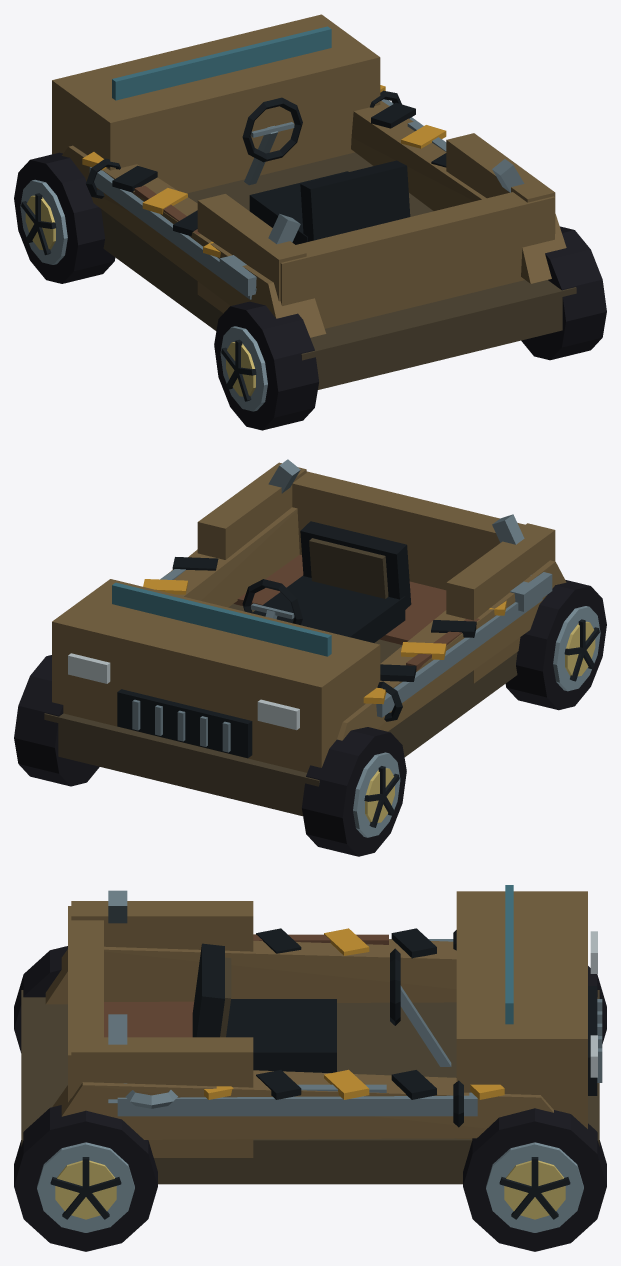
Rendered from kart.glb.
3 renders of one model, top to bottom at view 1: azimuth 30°, elevation 25°; view 2: azimuth 150°, elevation 25°; view 3: azimuth 270°, elevation 25°, orthographic. The views are drawn at different scales.
Visible parts, largest first — view 1: identity-truck-truck-utility-body, identity-truck-driver-cockpit, wheel-rear-left, wheel-front-left, wheel-rear-right, identity-truck-motif-pipes, identity-truck-motif-hazard-stripes, identity-truck-motif-tools; view 2: identity-truck-truck-utility-body, identity-truck-driver-cockpit, wheel-front-left, wheel-rear-left, wheel-front-right, identity-truck-motif-pipes, identity-truck-motif-hazard-stripes, identity-truck-motif-tools; view 3: identity-truck-truck-utility-body, wheel-front-right, wheel-rear-right, identity-truck-driver-cockpit, identity-truck-motif-pipes, identity-truck-motif-hazard-stripes, identity-truck-motif-tools, wheel-rear-left.
Boxes of the visible parts, x1,y1,x2,y2 form: identity-truck-truck-utility-body: [52, 14, 576, 389]; identity-truck-driver-cockpit: [242, 97, 410, 244]; wheel-rear-left: [214, 301, 318, 430]; wheel-front-left: [14, 152, 115, 283]; wheel-rear-right: [521, 226, 606, 360]; identity-truck-motif-pipes: [86, 90, 524, 299]; identity-truck-motif-hazard-stripes: [82, 85, 446, 257]; identity-truck-motif-tools: [134, 121, 446, 295]; identity-truck-truck-utility-body: [44, 462, 566, 816]; identity-truck-driver-cockpit: [242, 521, 411, 642]; wheel-front-left: [302, 727, 406, 856]; wheel-rear-left: [505, 580, 606, 710]; wheel-front-right: [14, 655, 99, 786]; identity-truck-motif-pipes: [160, 459, 542, 721]; identity-truck-motif-hazard-stripes: [143, 557, 506, 704]; identity-truck-motif-tools: [160, 569, 552, 670]; identity-truck-truck-utility-body: [21, 885, 602, 1184]; wheel-front-right: [463, 1108, 606, 1251]; wheel-rear-right: [14, 1105, 157, 1251]; identity-truck-driver-cockpit: [192, 943, 451, 1072]; identity-truck-motif-pipes: [108, 890, 477, 1127]; identity-truck-motif-hazard-stripes: [203, 928, 504, 1099]; identity-truck-motif-tools: [125, 934, 388, 1108]; wheel-rear-left: [14, 946, 67, 1052].
Size of the model in its own units: 2.13 by 1.13 by 2.8.
